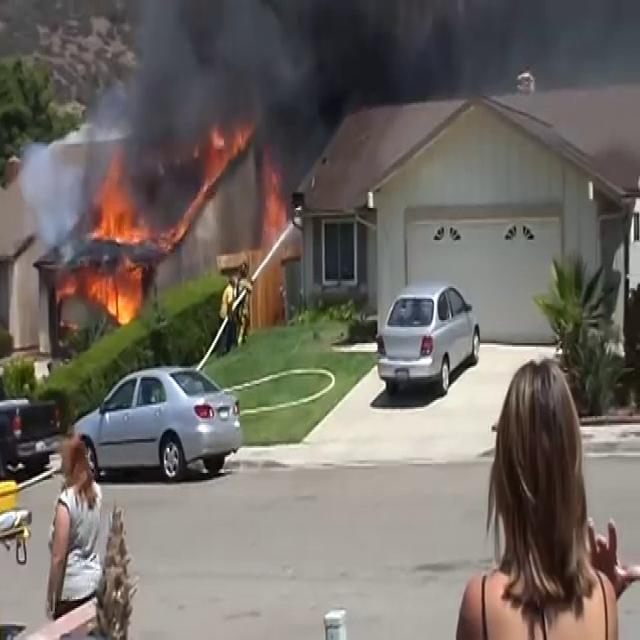Fire: (75, 168, 153, 326)
Smoke: (71, 0, 589, 196), (68, 0, 414, 199)
